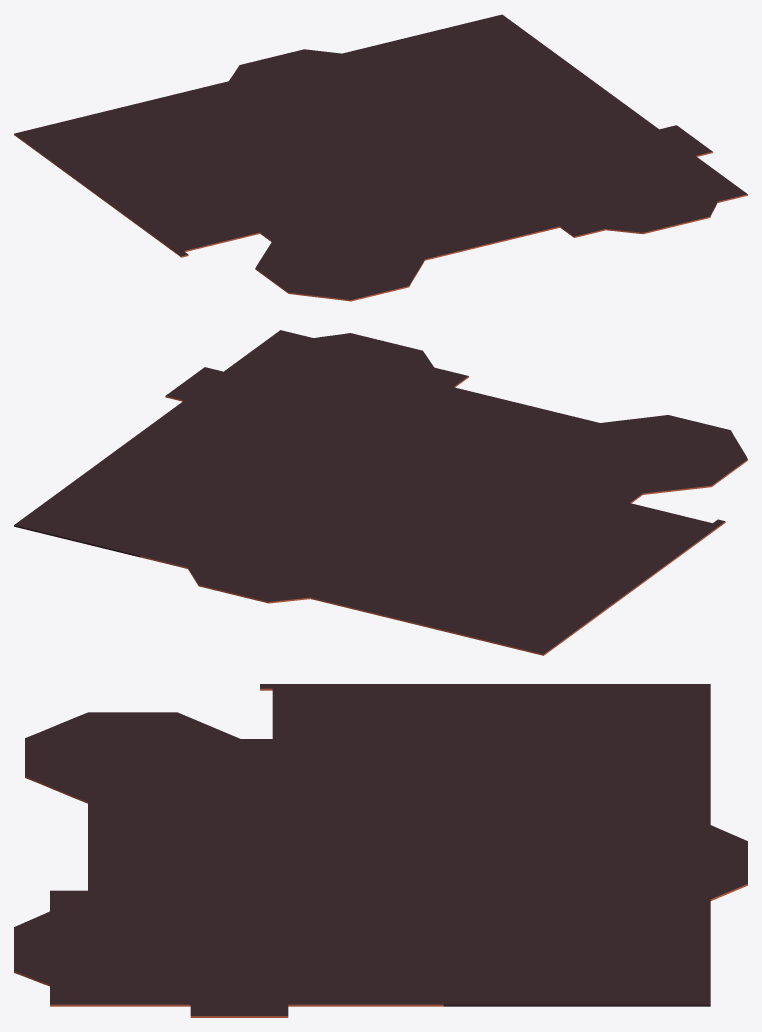
Rendered from HouseCeiling.fbx.
The picture shows the model from 3 angles, top to bottom: view 1: azimuth 30°, elevation 25°; view 2: azimuth 150°, elevation 25°; view 3: azimuth 270°, elevation 25°; orthographic projection. The views are drawn at different scales.
Parts seen in each view (by area): view 1: Ceiling; view 2: Ceiling; view 3: Ceiling.
Boxes of the visible parts, bbox=[...] form: Ceiling: bbox=[14, 14, 747, 301]; Ceiling: bbox=[14, 330, 747, 655]; Ceiling: bbox=[14, 684, 747, 1017].
Bounding box in the file's own units: 1814 × 4.85 × 1696.
